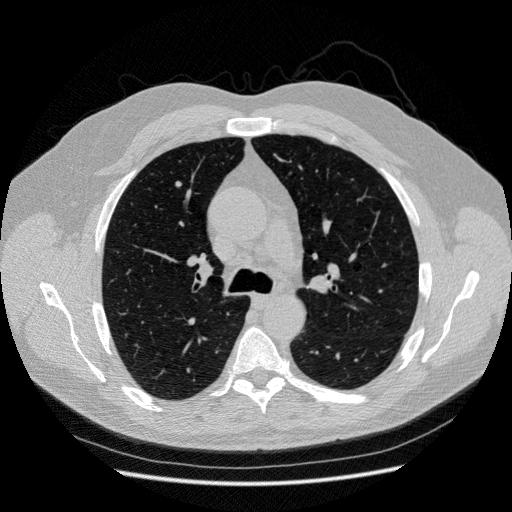nodule: (172, 178, 184, 190)
